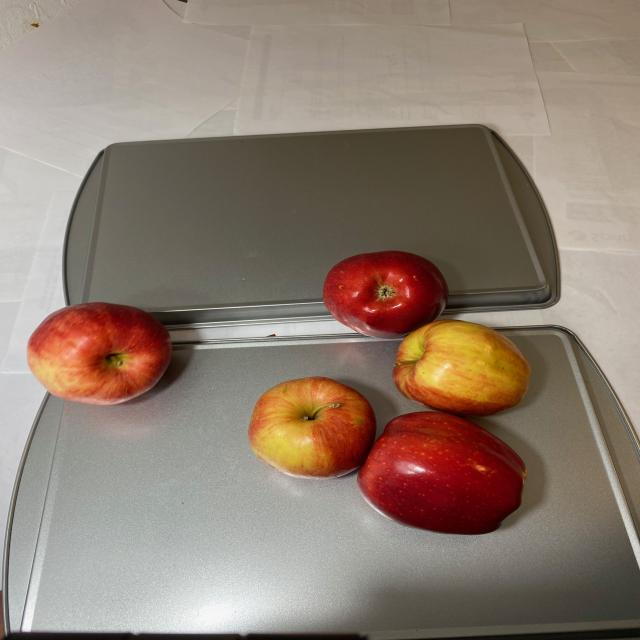Apple: (244, 250, 537, 533), (28, 301, 180, 407)
